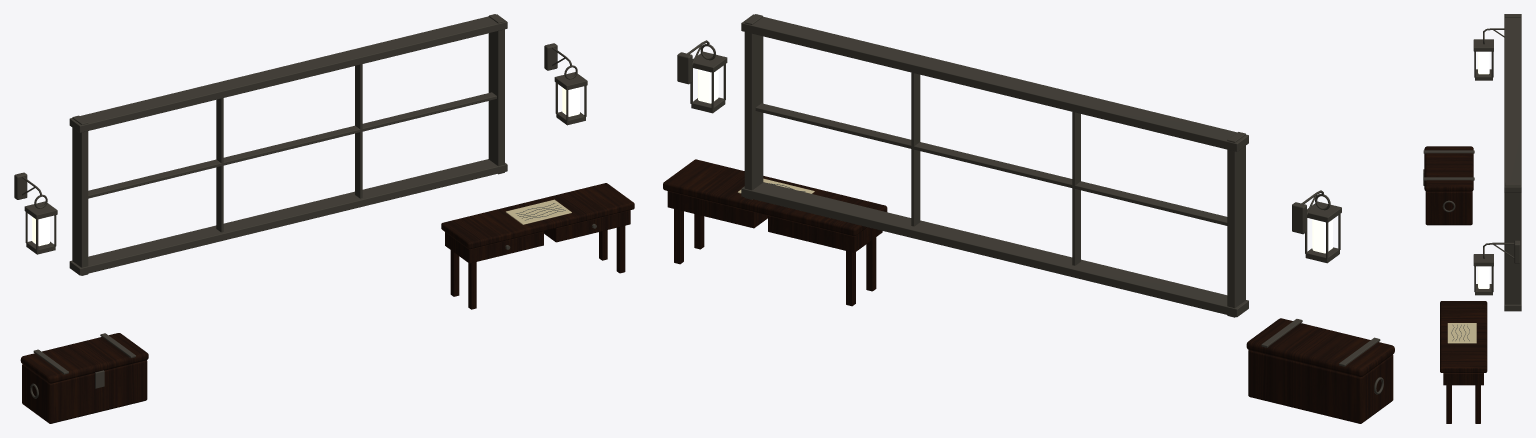
File: north.glb
The picture shows the model from 3 angles, left to right: view 1: azimuth 30°, elevation 25°; view 2: azimuth 150°, elevation 25°; view 3: azimuth 270°, elevation 25°; orthographic projection. The views are drawn at different scales.
Parts seen in each view (by area): view 1: pirate-captains-cabin north; view 2: pirate-captains-cabin north; view 3: pirate-captains-cabin north.
Boxes of the visible parts, x1,y1,x2,y2 form: pirate-captains-cabin north: [14, 14, 634, 423]; pirate-captains-cabin north: [663, 14, 1394, 423]; pirate-captains-cabin north: [1423, 14, 1521, 423].
Bounding box in the file's own units: 7.88 × 3.11 × 1.36.
Materials: 6 (1 with a texture image).
